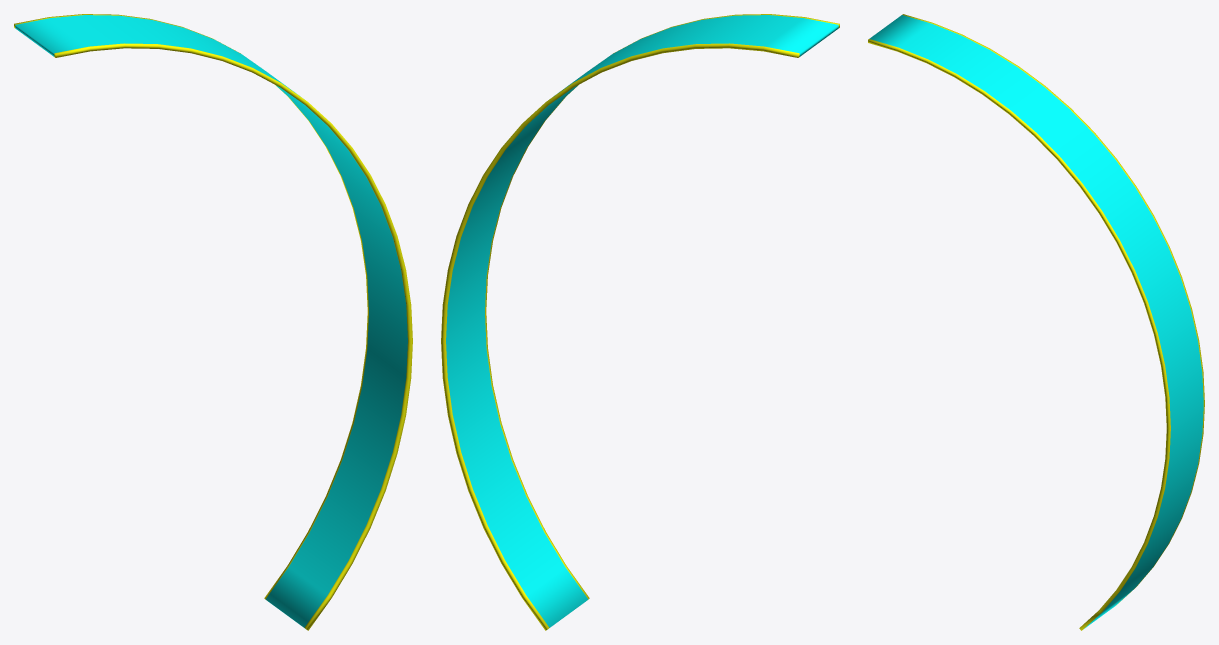
File: TouchNote05.fbx
3 views of the same model, side by side, from view 1: azimuth 30°, elevation 25°; view 2: azimuth 150°, elevation 25°; view 3: azimuth 330°, elevation 25° (orthographic). The views are drawn at different scales.
Parts seen in each view (by area): view 1: TouchNote05; view 2: TouchNote05; view 3: TouchNote05.
Part boxes in pixels (left/top/right/bottom): TouchNote05: left=14, top=14, right=412, bottom=630; TouchNote05: left=441, top=14, right=839, bottom=630; TouchNote05: left=868, top=14, right=1204, bottom=630.
Size of the model in its own units: 99 by 20 by 169.
